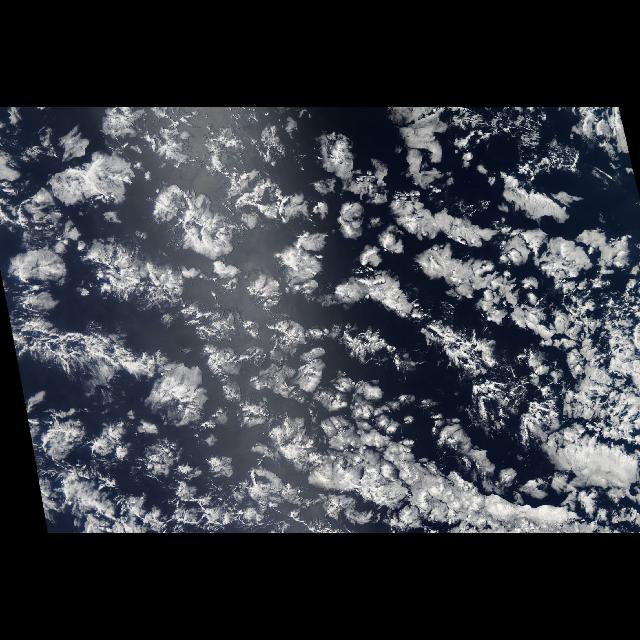Fish: (11, 316, 156, 388)
Flower: (0, 110, 638, 532)
Sugar: (159, 111, 631, 527)
